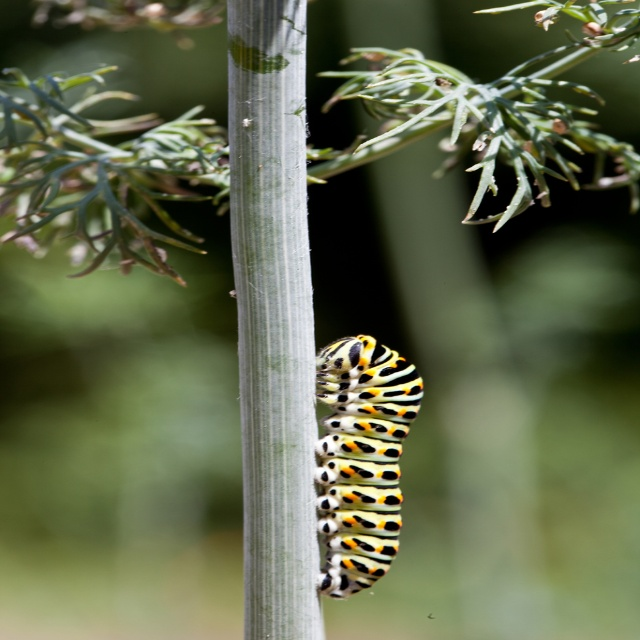Caterpillar: (320, 334, 425, 597)
